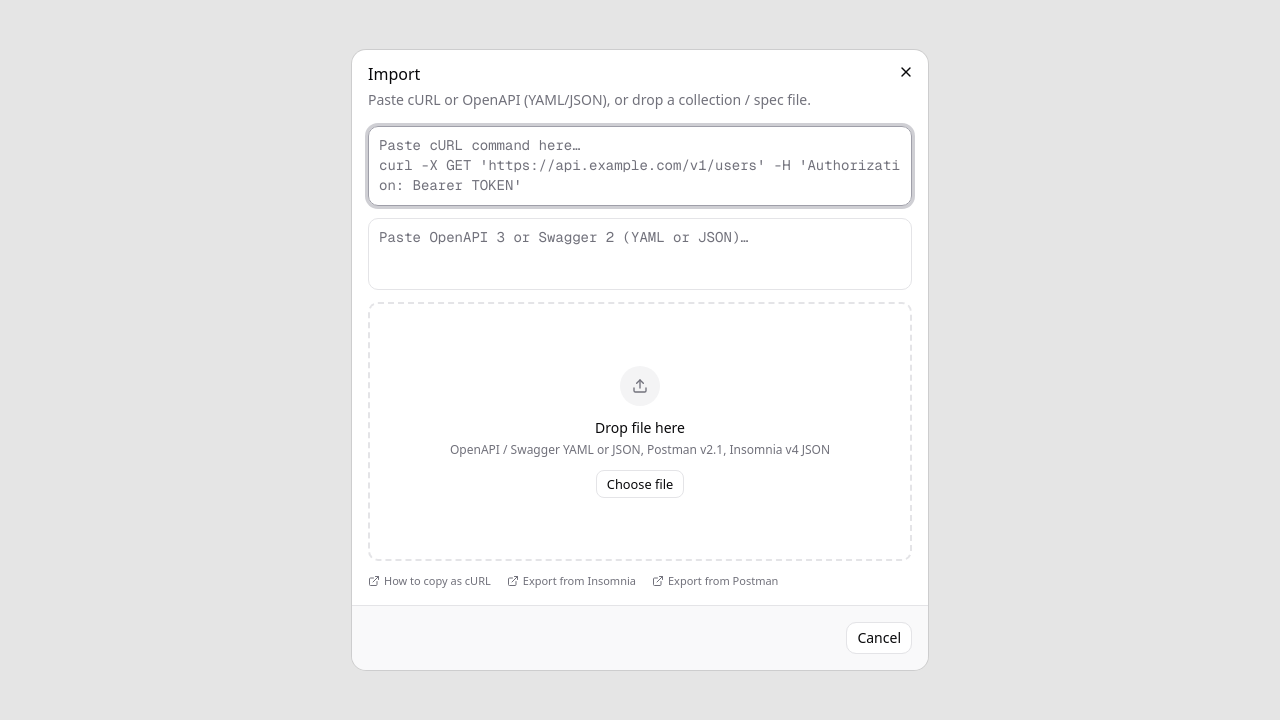
Test case: ImportDialog › shows cURL parse error when parseCurl throws
Type "x" into the text box with placeholder "Paste cURL command" at [640, 166], box [368,126,912,206]
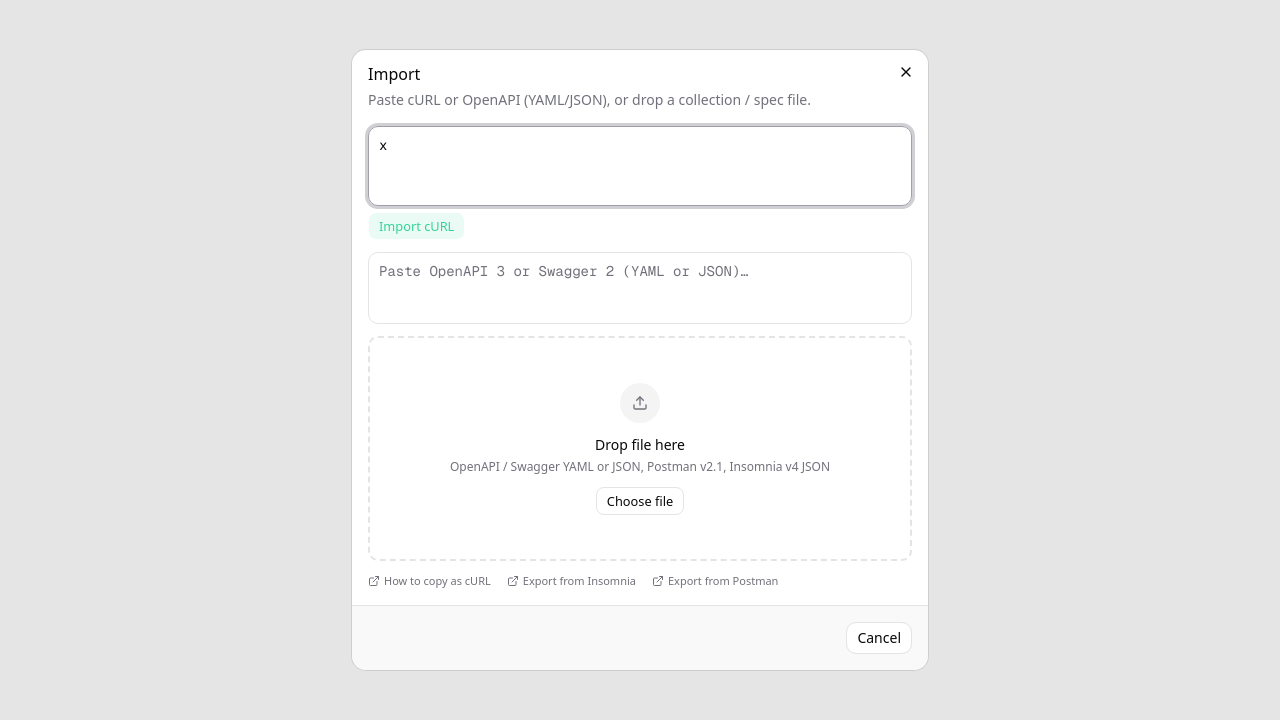
Click the button "Import cURL" at [417, 226], box [368,212,465,240]
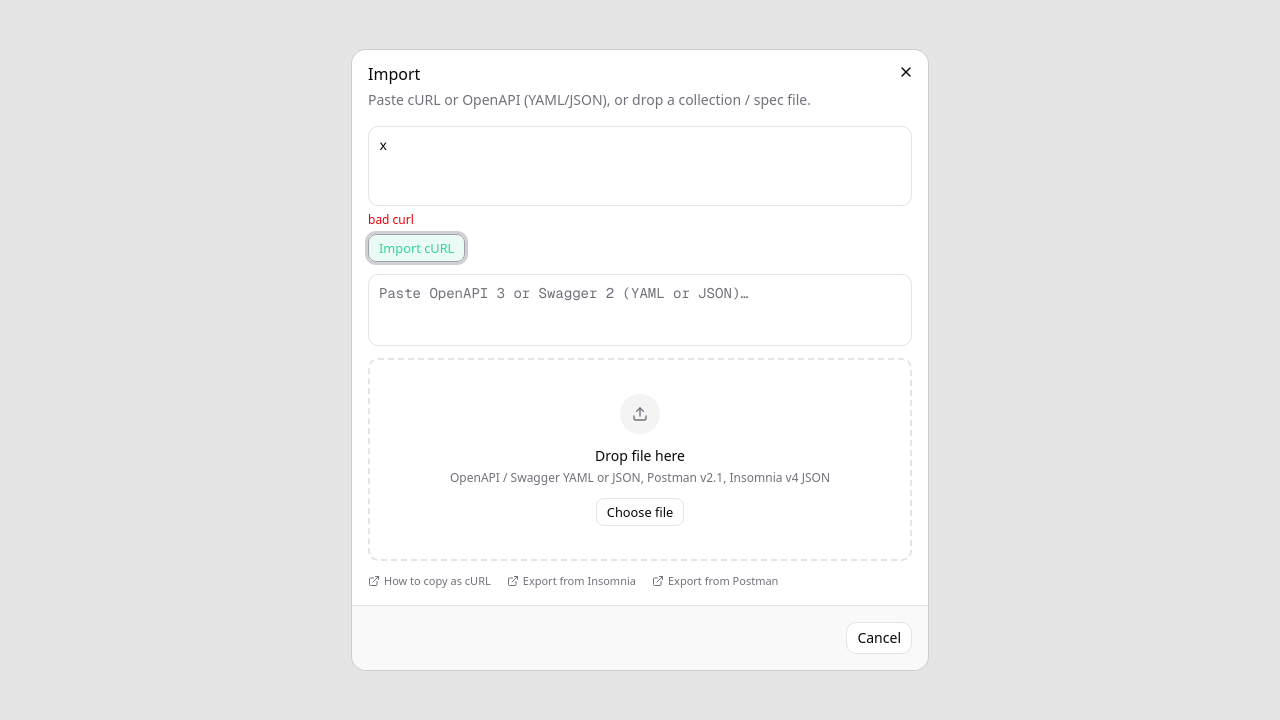
Expected: the text "bad curl" is shown, [368,211,414,228]
